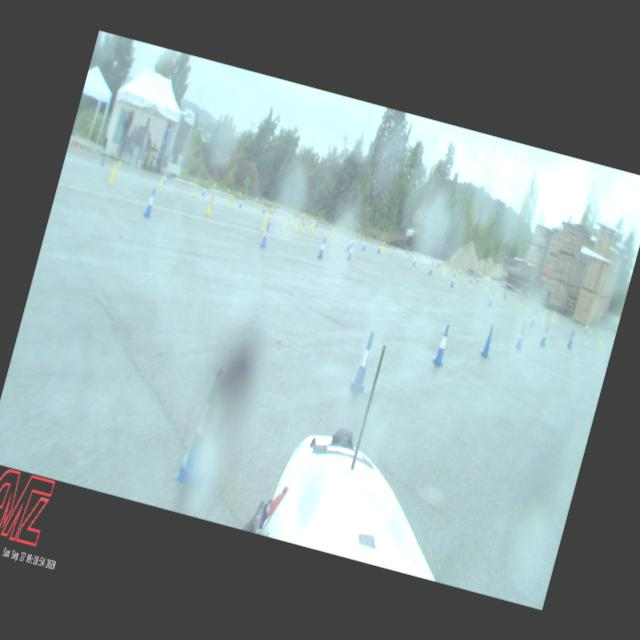blue_cone: (174, 364, 235, 489), (347, 330, 380, 393), (430, 324, 452, 366), (480, 323, 496, 358), (142, 186, 158, 218), (259, 222, 272, 248), (514, 324, 527, 349), (317, 236, 328, 258), (540, 324, 550, 346), (566, 328, 576, 348), (530, 306, 540, 326), (346, 243, 354, 261), (449, 273, 456, 287), (360, 238, 368, 250), (428, 262, 434, 276), (346, 238, 352, 251), (487, 294, 493, 306), (238, 196, 244, 208), (376, 242, 382, 254), (162, 173, 168, 184), (201, 185, 206, 196), (412, 256, 417, 266), (584, 322, 588, 333), (476, 274, 480, 284), (349, 236, 353, 246)
yellow_cone: (106, 164, 118, 185), (259, 210, 270, 232), (206, 195, 214, 215), (584, 328, 592, 344), (540, 310, 546, 323), (228, 194, 234, 207), (467, 276, 473, 288), (517, 295, 523, 307), (598, 331, 604, 343), (550, 310, 556, 322), (294, 218, 300, 230), (159, 174, 165, 186), (268, 207, 274, 218), (192, 186, 198, 197), (380, 240, 386, 251), (300, 220, 306, 230), (330, 228, 335, 238), (502, 294, 507, 304), (441, 266, 446, 276), (356, 234, 361, 242), (404, 248, 408, 258), (457, 269, 461, 278), (352, 234, 356, 243), (484, 282, 488, 290), (411, 254, 415, 262)
